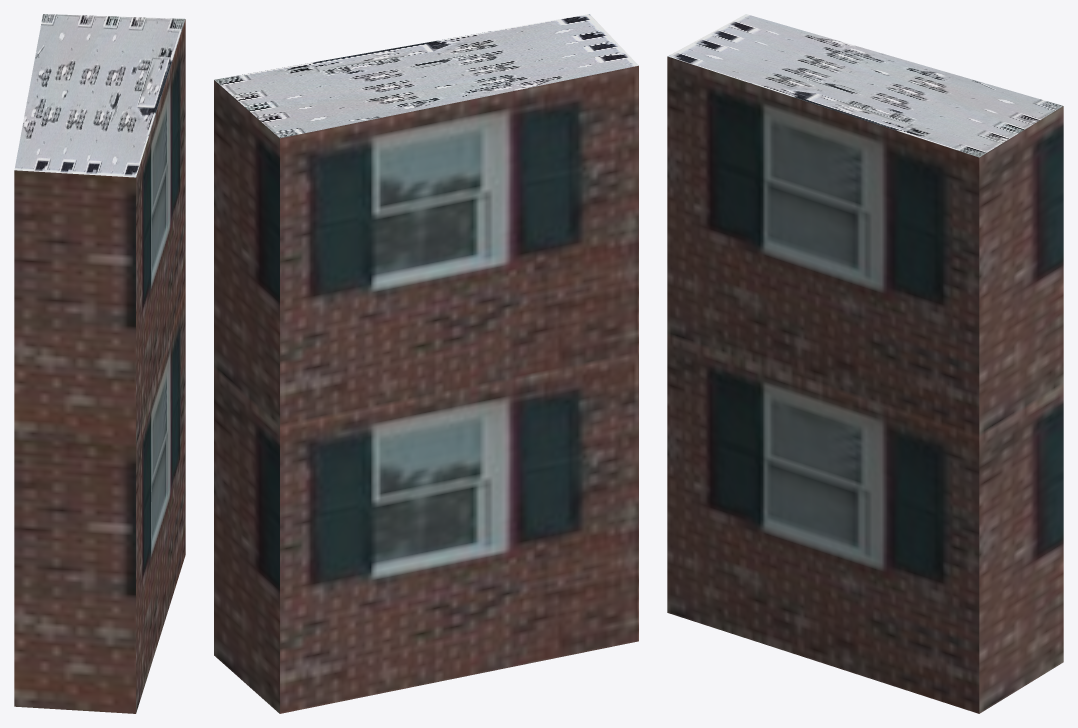
Rendered from ResTex__3609.fbx.
3 views of the same model, side by side, from view 1: azimuth 30°, elevation 25°; view 2: azimuth 150°, elevation 25°; view 3: azimuth 270°, elevation 25° (orthographic). The views are drawn at different scales.
Parts seen in each view (by area): view 1: CityEngineMaterial_14_m, CityEngineMaterial_4_m; view 2: CityEngineMaterial_14_m, CityEngineMaterial_4_m; view 3: CityEngineMaterial_14_m, CityEngineMaterial_4_m.
Part boxes in pixels (box(x1,y1,x2,y2)): CityEngineMaterial_14_m: box(14, 19, 185, 713); CityEngineMaterial_4_m: box(14, 14, 185, 177); CityEngineMaterial_14_m: box(214, 65, 638, 713); CityEngineMaterial_4_m: box(214, 14, 638, 138); CityEngineMaterial_14_m: box(667, 56, 1063, 713); CityEngineMaterial_4_m: box(668, 14, 1062, 157).
Size of the model in its own units: 3.32 by 6 by 3.87.
Materials: 2 (2 with a texture image).
